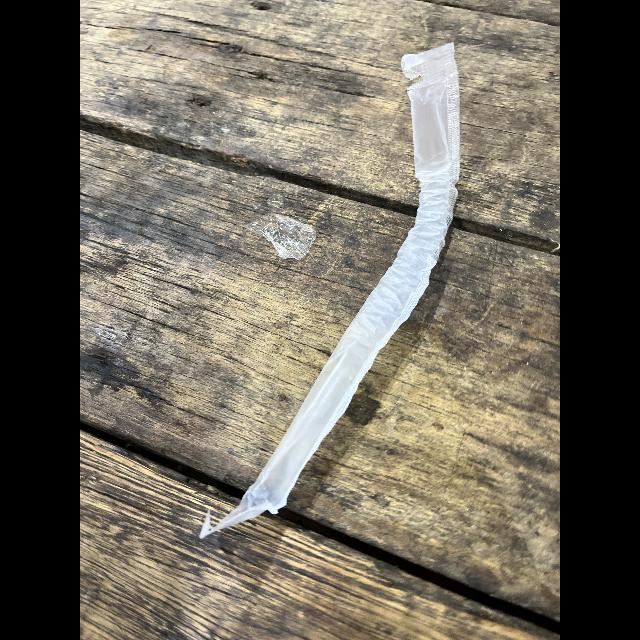scrap_plastic: (202, 37, 466, 546)
